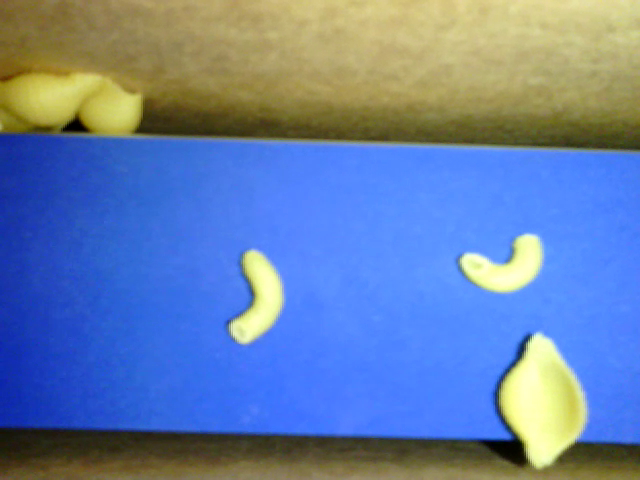elbow: (224, 249, 283, 344), (462, 235, 540, 292)
shell: (492, 330, 590, 472), (1, 66, 109, 120), (75, 69, 144, 138), (1, 104, 73, 131)
